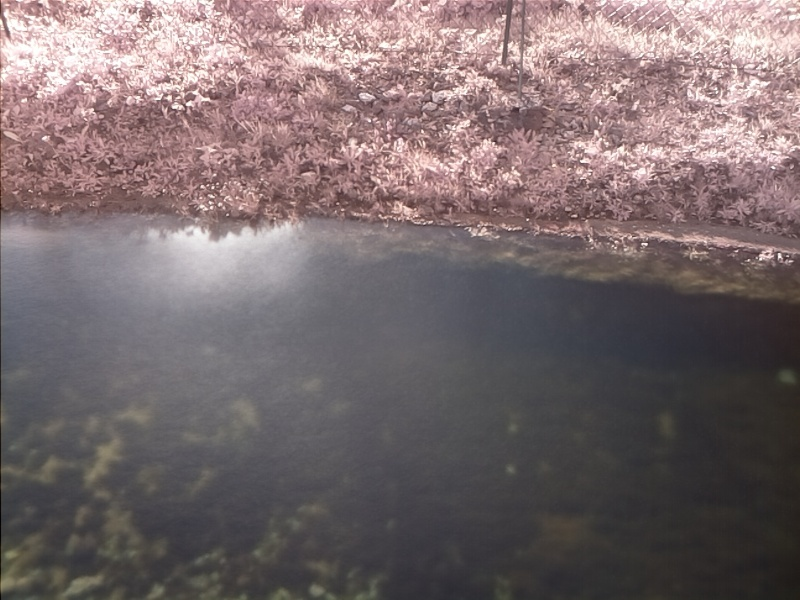Water: (1, 211, 797, 600)
